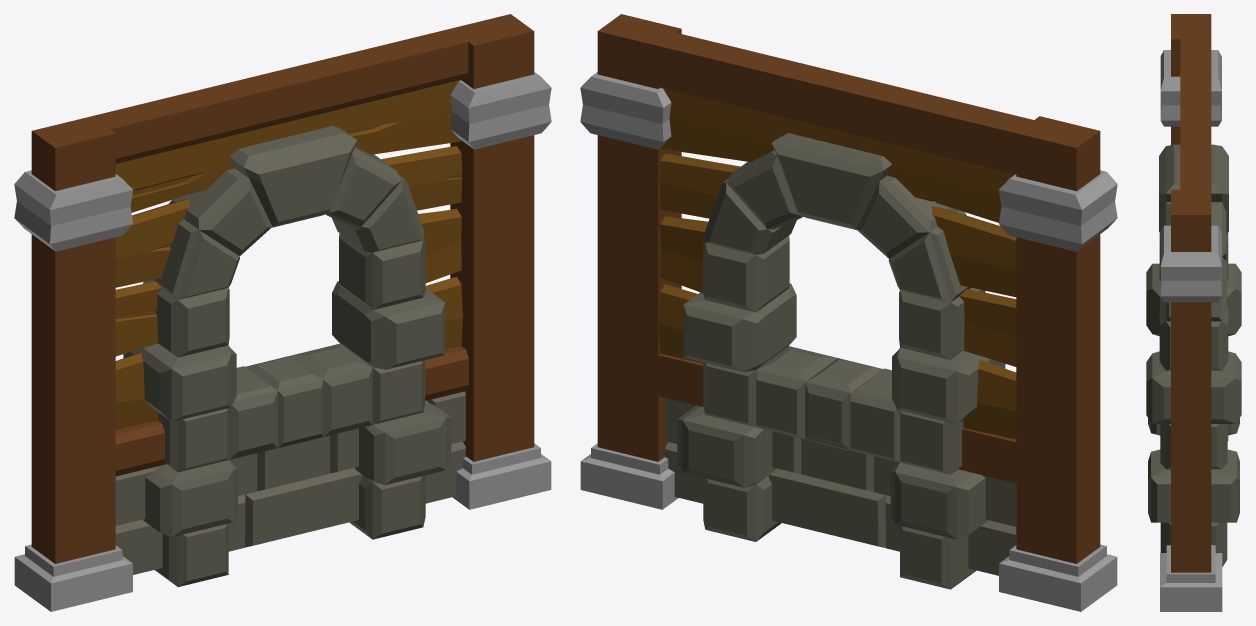
File: WallWindow.fbx
3 views of the same model, side by side, from view 1: azimuth 30°, elevation 25°; view 2: azimuth 150°, elevation 25°; view 3: azimuth 270°, elevation 25° (orthographic). The views are drawn at different scales.
Visible parts, largest first — view 1: WallWindowFrame, WallWindowConstruction, WallWindowPlanks, WallWindowConstructionmetal, WallWindowBricks; view 2: WallWindowConstruction, WallWindowFrame, WallWindowPlanks, WallWindowConstructionmetal, WallWindowBricks; view 3: WallWindowConstruction, WallWindowFrame, WallWindowConstructionmetal.
Part boxes in pixels (<box>): WallWindowFrame: <box>123,125,451,586</box>; WallWindowConstruction: <box>31,14,534,563</box>; WallWindowPlanks: <box>115,79,462,429</box>; WallWindowConstructionmetal: <box>14,72,551,611</box>; WallWindowBricks: <box>115,391,465,574</box>; WallWindowConstruction: <box>597,14,1100,563</box>; WallWindowFrame: <box>677,133,1005,589</box>; WallWindowPlanks: <box>659,87,1016,439</box>; WallWindowConstructionmetal: <box>580,72,1117,611</box>; WallWindowBricks: <box>665,398,1016,575</box>; WallWindowConstruction: <box>1171,14,1211,572</box>; WallWindowFrame: <box>1146,144,1241,566</box>; WallWindowConstructionmetal: <box>1160,50,1222,611</box>.
Bounding box in the file's own units: 460 × 408 × 88.02.
